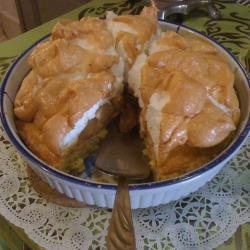apple_pie: (20, 15, 240, 207)
